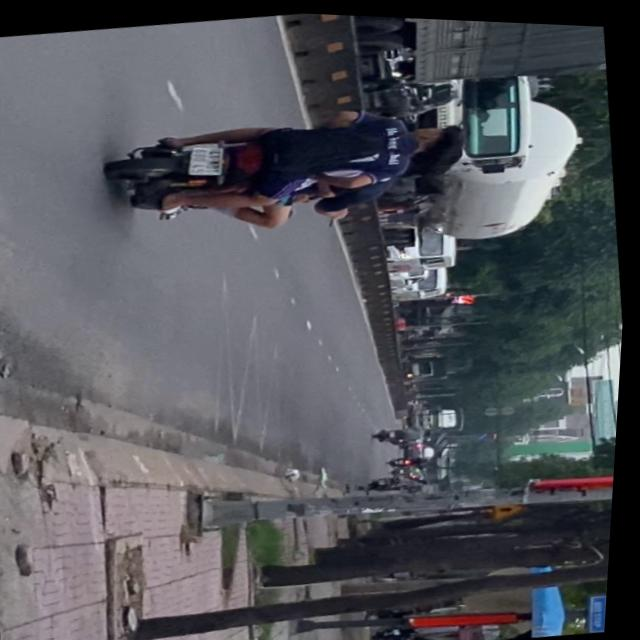licenseplate: (99, 83, 485, 250)
motorcyclist: (410, 115, 471, 156), (401, 148, 461, 181)
nohelmet: (189, 140, 228, 175)
